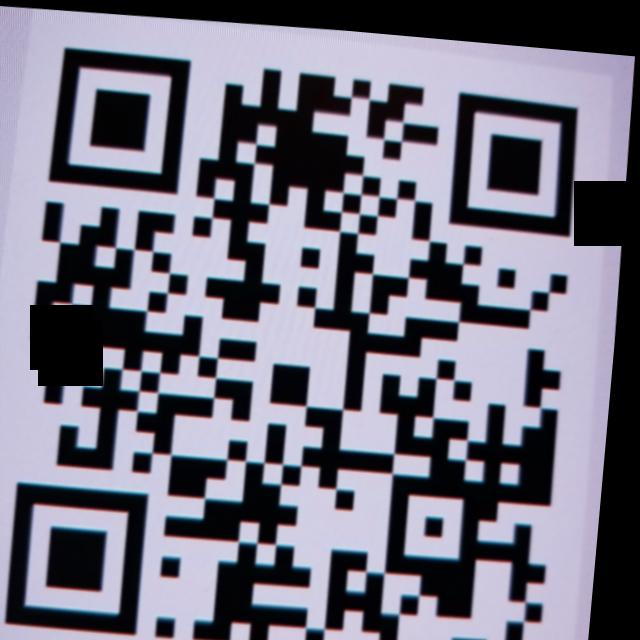QR_CODE: (0, 10, 632, 640)
